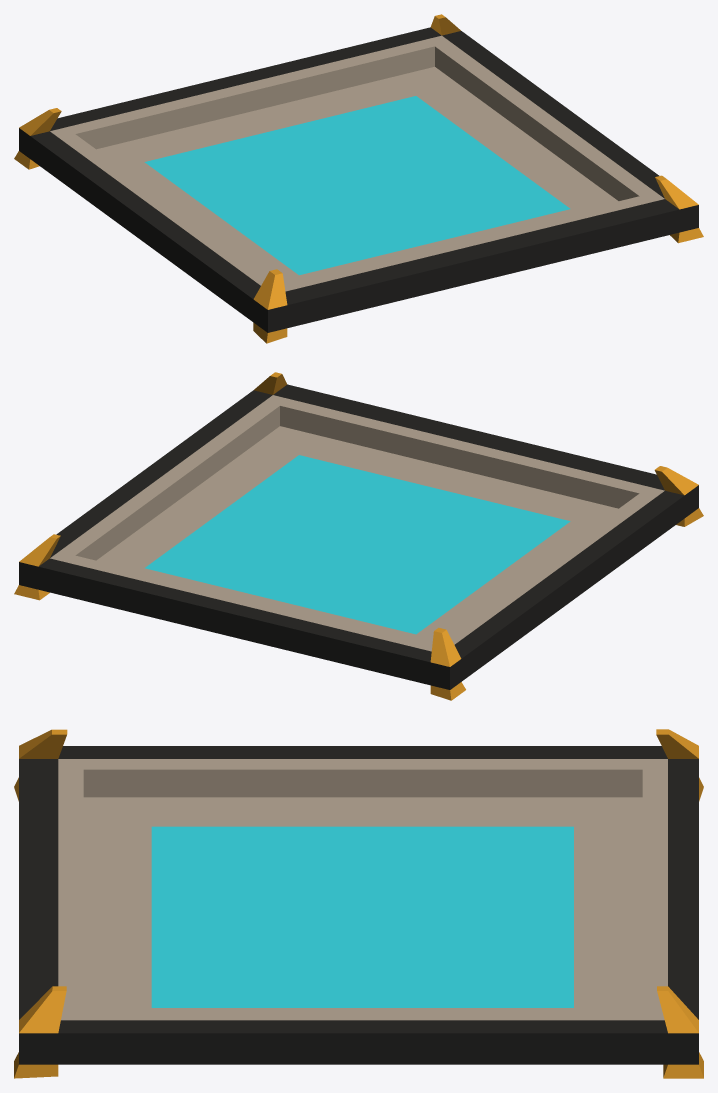
Rendered from Torreta-Piso.fbx.
3 views of the same model, one above another, from view 1: azimuth 30°, elevation 25°; view 2: azimuth 150°, elevation 25°; view 3: azimuth 270°, elevation 25° (orthographic). The views are drawn at different scales.
Parts seen in each view (by area): view 1: Cube; view 2: Cube; view 3: Cube.
Boxes of the visible parts, left/top/right/bottom form: Cube: left=14, top=14, right=703, bottom=343; Cube: left=14, top=372, right=703, bottom=700; Cube: left=14, top=729, right=703, bottom=1078.
Bounding box in the file's own units: 203 × 23.48 × 203.
